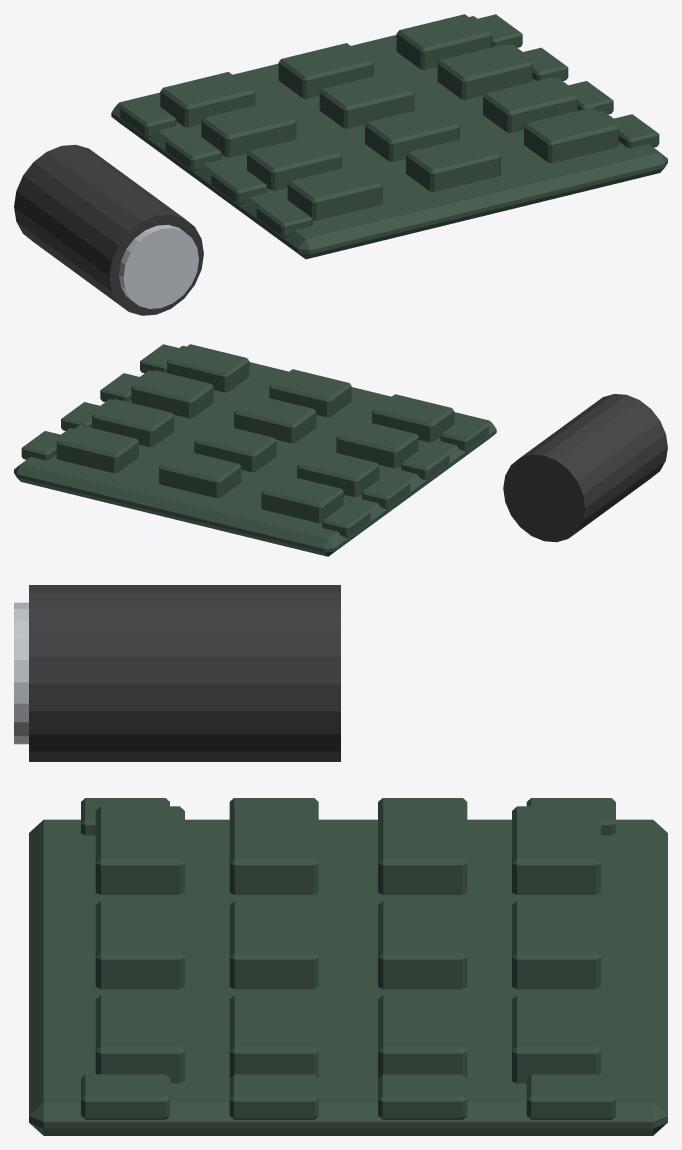
The model's file is ESC_LOD0.glb.
The picture shows the model from 3 angles, top to bottom: view 1: azimuth 30°, elevation 25°; view 2: azimuth 150°, elevation 25°; view 3: azimuth 270°, elevation 25°; orthographic projection. The views are drawn at different scales.
Parts seen in each view (by area): view 1: Capacitor_End.001; view 2: Capacitor_End.001; view 3: Capacitor_End.001.
Part boxes in pixels (x1,y1,x2,y2): Capacitor_End.001: (14, 14, 667, 315); Capacitor_End.001: (14, 344, 667, 556); Capacitor_End.001: (14, 585, 667, 1135).
Size of the model in its own units: 0.072 by 0.012 by 0.044.
